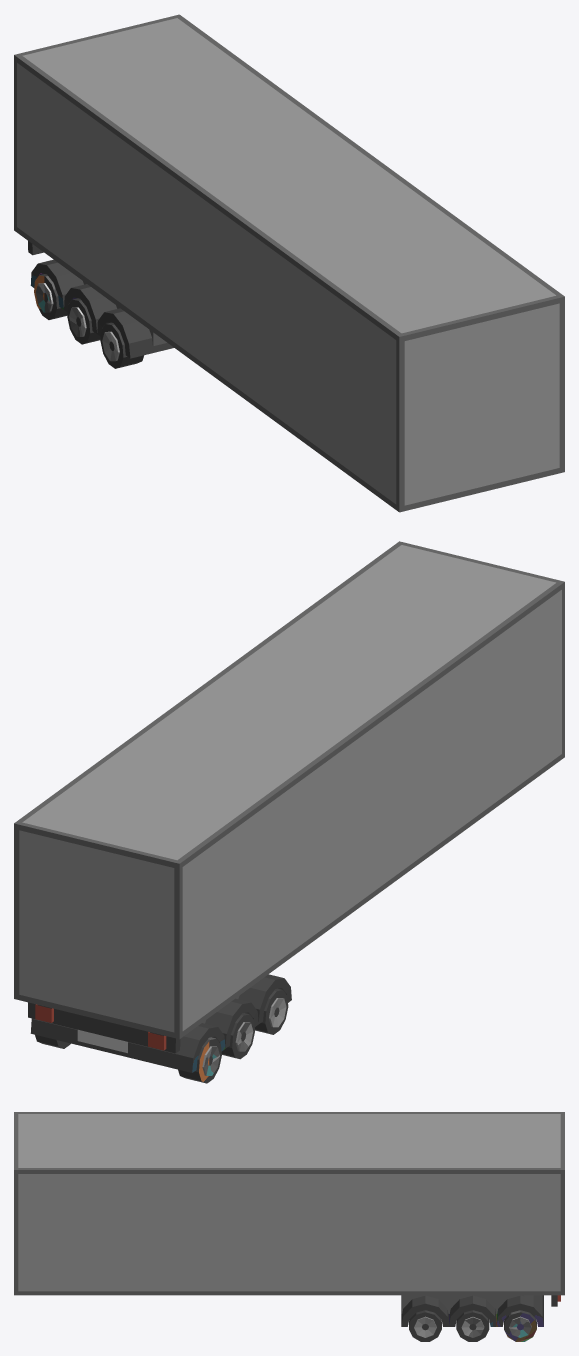
Rendered from transport_truck_013.glb.
The picture shows the model from 3 angles, top to bottom: view 1: azimuth 30°, elevation 25°; view 2: azimuth 150°, elevation 25°; view 3: azimuth 270°, elevation 25°; orthographic projection. The views are drawn at different scales.
Visible parts, largest first — view 1: transport_truck_013; view 2: transport_truck_013; view 3: transport_truck_013.
Part boxes in pixels (<box>): transport_truck_013: <box>14,14,564,512</box>; transport_truck_013: <box>14,541,564,1083</box>; transport_truck_013: <box>14,1112,564,1341</box>.
Bounding box in the file's own units: 2.16 × 2.96 × 8.59.
Materials: 1 (1 with a texture image).
